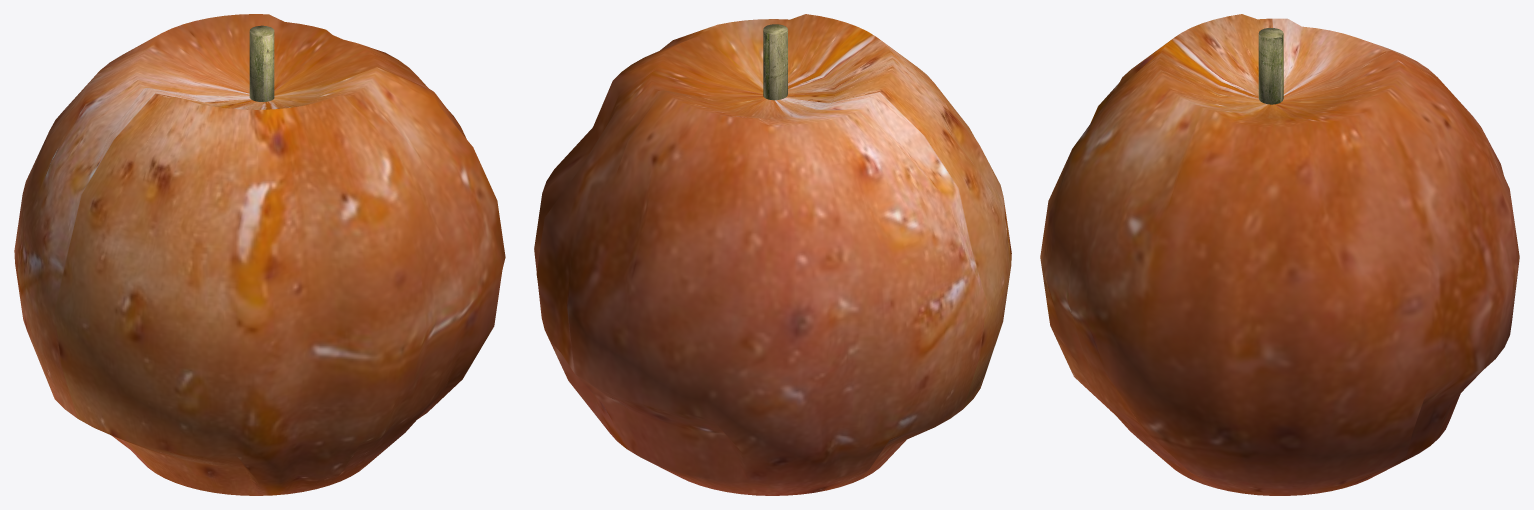
The model's file is BakedApple.fbx.
3 renders of one model, left to right at view 1: azimuth 30°, elevation 25°; view 2: azimuth 150°, elevation 25°; view 3: azimuth 270°, elevation 25°, orthographic.
Parts seen in each view (by area): view 1: Body, Stick; view 2: Body, Stick; view 3: Body, Stick.
Part boxes in pixels (<box>): Body: <box>14,14,505,495</box>; Stick: <box>249,25,274,101</box>; Body: <box>534,14,1011,495</box>; Stick: <box>763,24,787,100</box>; Body: <box>1040,14,1519,495</box>; Stick: <box>1258,28,1283,104</box>.
Bounding box in the file's own units: 0.3992 × 0.4 × 0.386.
